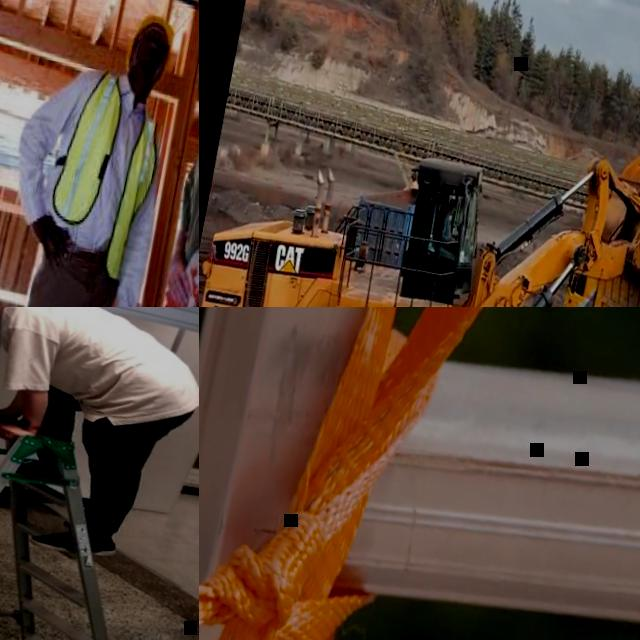helmet: (124, 12, 178, 78)
machinery: (199, 46, 640, 307), (345, 152, 477, 288)
no_helmet: (446, 198, 456, 210)
no_mask: (135, 40, 163, 70), (449, 210, 455, 217)
no_vest: (0, 307, 199, 426), (175, 102, 199, 300), (440, 214, 453, 238)
person: (0, 0, 196, 307), (0, 307, 199, 574), (134, 0, 199, 307), (438, 196, 466, 252)
vest: (41, 70, 169, 282)
